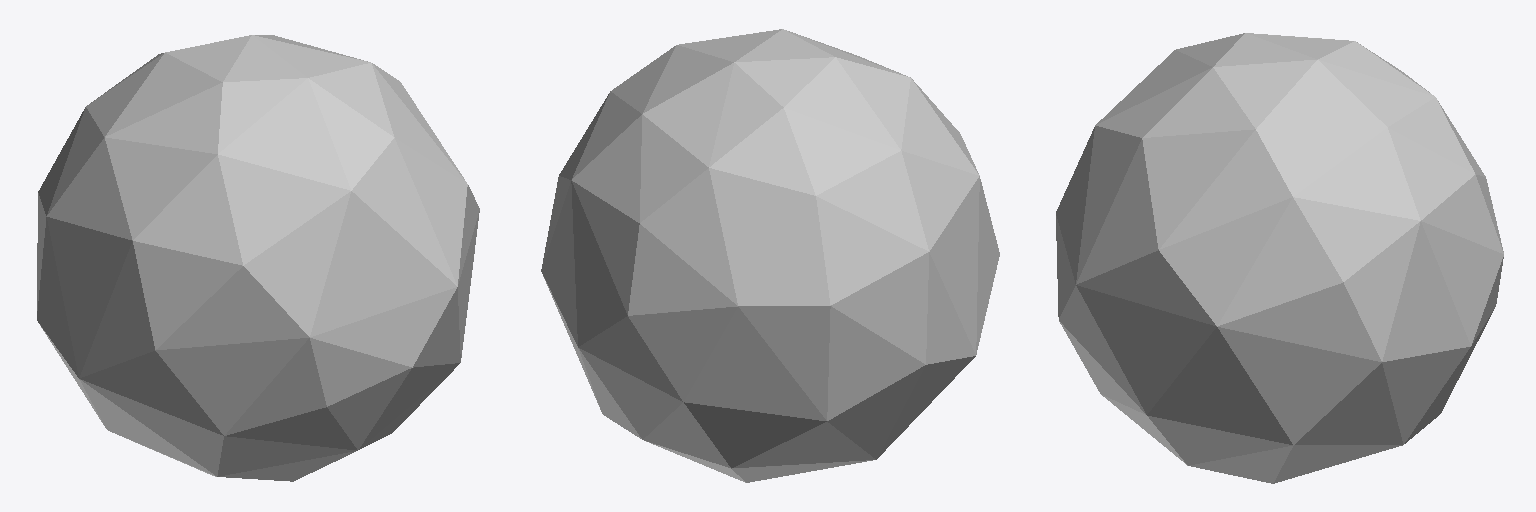
Rendered from sphereSml.obj.
3 renders of one model, left to right at view 1: azimuth 30°, elevation 25°; view 2: azimuth 150°, elevation 25°; view 3: azimuth 270°, elevation 25°, orthographic.
Parts seen in each view (by area): view 1: Sphere; view 2: Sphere; view 3: Sphere.
Part boxes in pixels (x1,y1,x2,y2): Sphere: (37, 35, 479, 481); Sphere: (541, 29, 999, 482); Sphere: (1056, 33, 1503, 483).
Size of the model in its own units: 1.97 by 2 by 1.99.